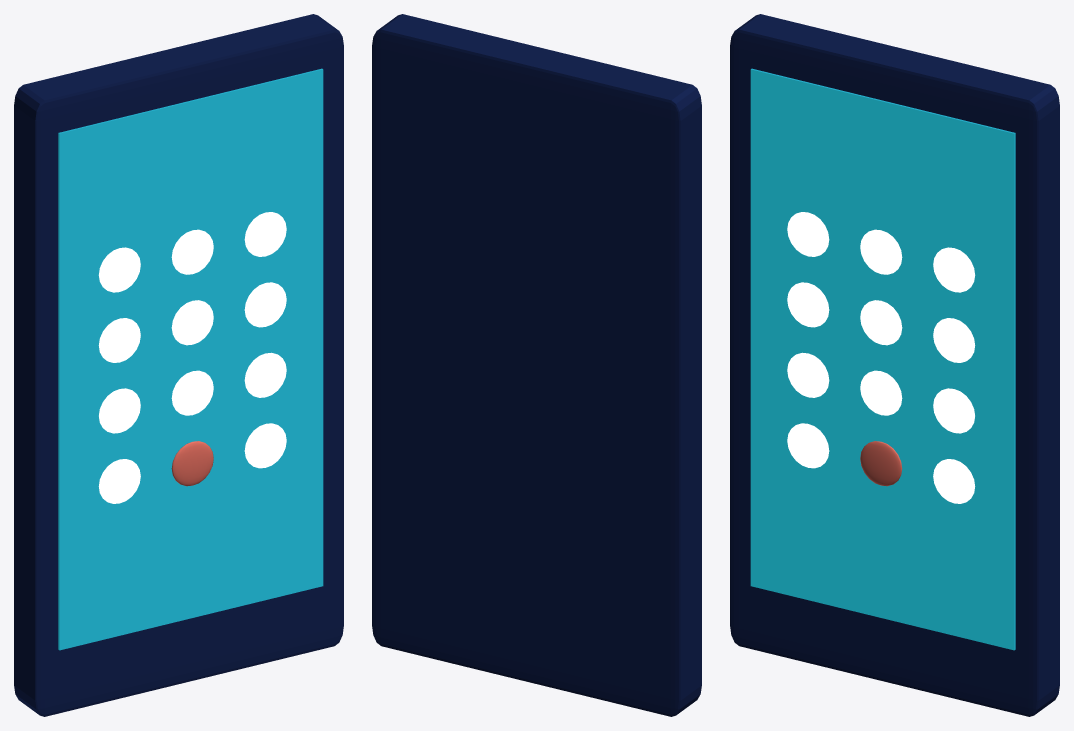
Rendered from telefone.glb.
3 renders of one model, left to right at view 1: azimuth 30°, elevation 25°; view 2: azimuth 150°, elevation 25°; view 3: azimuth 330°, elevation 25°, orthographic.
Parts seen in each view (by area): view 1: tela, corpo, t02, t23, t00, t11, t12, t21, t10, t13, t22, t01 (+2 smaller); view 2: corpo; view 3: tela, corpo, t03, t22, t20, t01, t11, t12, t02, t10, t13, t00 (+2 smaller).
Part boxes in pixels (x1=…): tela: x1=58, y1=68, x2=323, y2=650; corpo: x1=14, y1=14, x2=343, y2=716; t02: x1=99, y1=388, x2=140, y2=433; t23: x1=244, y1=423, x2=286, y2=468; t00: x1=98, y1=247, x2=140, y2=292; t11: x1=171, y1=300, x2=213, y2=345; t12: x1=171, y1=370, x2=213, y2=415; t21: x1=244, y1=282, x2=286, y2=327; t10: x1=171, y1=229, x2=213, y2=274; t13: x1=171, y1=441, x2=213, y2=486; t22: x1=244, y1=352, x2=286, y2=397; t01: x1=98, y1=318, x2=140, y2=362; corpo: x1=372, y1=14, x2=701, y2=716; tela: x1=750, y1=68, x2=1015, y2=650; corpo: x1=730, y1=14, x2=1059, y2=716; t03: x1=787, y1=423, x2=829, y2=468; t22: x1=933, y1=388, x2=974, y2=433; t20: x1=933, y1=247, x2=975, y2=292; t01: x1=787, y1=282, x2=829, y2=327; t11: x1=860, y1=300, x2=902, y2=345; t12: x1=860, y1=370, x2=902, y2=415; t02: x1=787, y1=352, x2=829, y2=397; t10: x1=860, y1=229, x2=902, y2=274; t13: x1=860, y1=441, x2=902, y2=486; t00: x1=787, y1=212, x2=829, y2=256.
Size of the model in its own units: 1.1 by 2.1 by 0.167.
